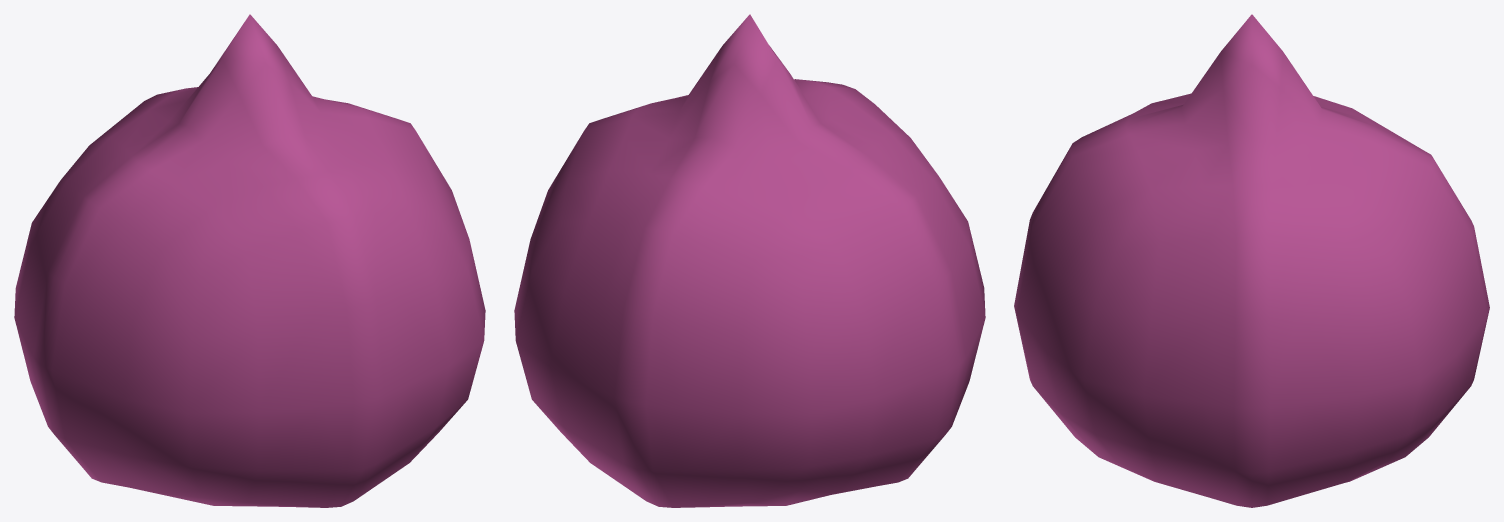
The model's file is Onion.fbx.
The picture shows the model from 3 angles, left to right: view 1: azimuth 30°, elevation 25°; view 2: azimuth 150°, elevation 25°; view 3: azimuth 270°, elevation 25°; orthographic projection.
Parts seen in each view (by area): view 1: pCube36; view 2: pCube36; view 3: pCube36.
Boxes of the visible parts, x1,y1,x2,y2 form: pCube36: (14, 14, 485, 507); pCube36: (514, 14, 985, 507); pCube36: (1014, 14, 1489, 507).
Bounding box in the file's own units: 0.9257 × 0.9604 × 0.9257.
